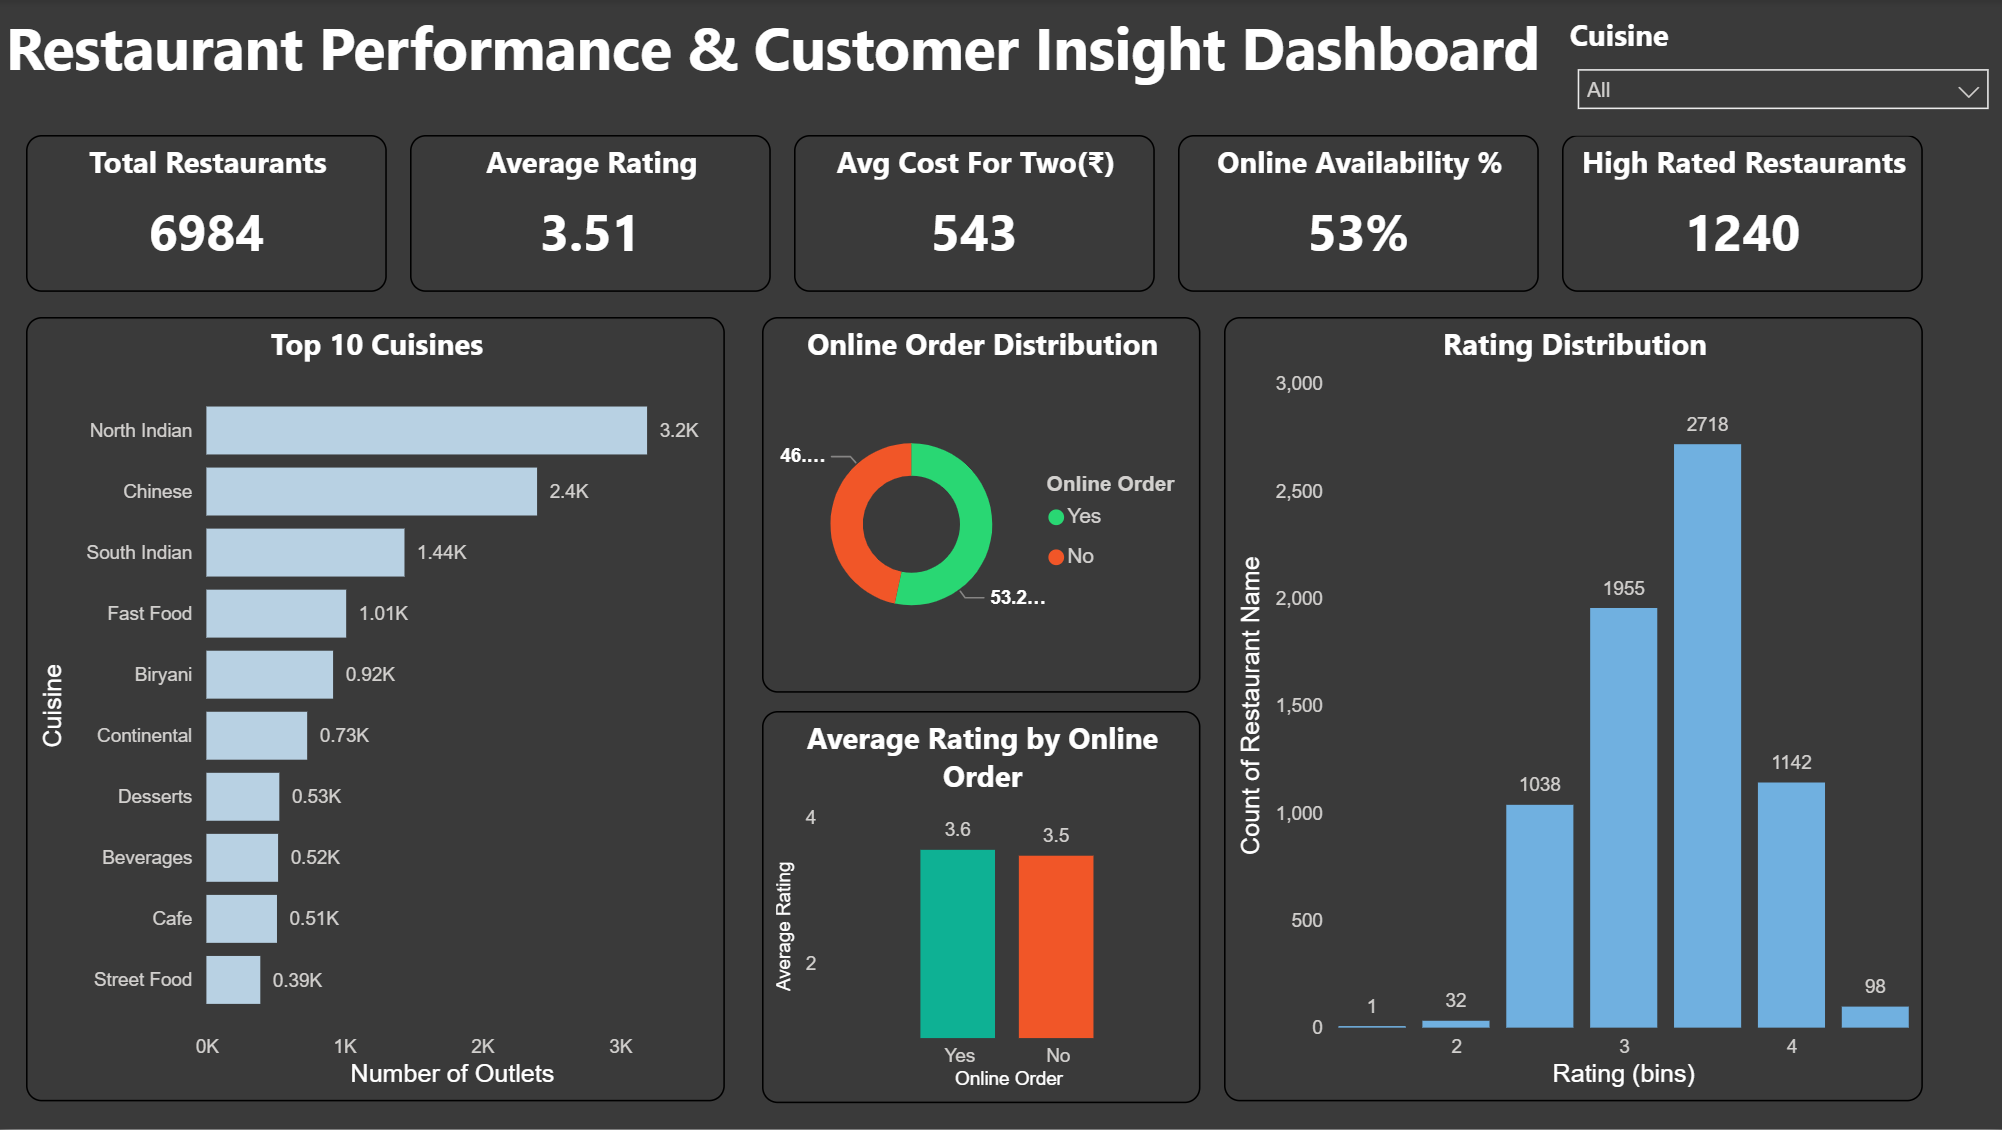

The page's visual inventory and layout, read from the dashboard file:
{"tool":"powerbi","page":{"name":"Page 1","canvas":[1280,720],"ordinal":0},"visuals":[{"type":"card","title":"Total Restaurants","fields":{"Values":["zomato.Total Restaurants"]},"box":[17.6,86.8,230,100],"z":0},{"type":"card","title":"Average Rating","fields":{"Values":["zomato.Average Rating"]},"box":[262.5,86.8,230,100],"z":1000},{"type":"card","title":"Avg Cost For Two(₹)","fields":{"Values":["zomato.Average Cost for Two"]},"box":[507.4,86.8,230,100],"z":2000},{"type":"card","title":"Online Availability %","fields":{"Values":["zomato.Online Order %"]},"box":[752.2,86.8,230,100],"z":3000},{"type":"card","title":"High Rated Restaurants","fields":{"Values":["zomato.High Rated Restaurants"]},"box":[997.1,86.8,230,100],"z":4000},{"type":"textbox","box":[0,0,995.8,86.2],"z":5000},{"type":"donutChart","title":"Online Order Distribution","fields":{"Category":["zomato.Online Order"],"Y":["Count(zomato.Restaurant Name)"]},"box":[486.4,202.9,279.4,239.7],"z":6000},{"type":"clusteredBarChart","title":"Top 10 Cuisines","fields":{"Category":["zomato.Cuisine"],"Y":["Count(zomato.Restaurant Name)"]},"box":[17.6,202.9,445.6,500],"z":7000},{"type":"slicer","title":"Cuisine","fields":{"Values":["zomato.Cuisine"]},"box":[997.6,9.6,281.9,77.1],"z":8000},{"type":"clusteredColumnChart","title":"Average Rating by Online Order","fields":{"Category":["zomato.Online Order"],"Y":["zomato.Average Rating"]},"box":[486.4,454.4,279.4,250],"z":9000},{"type":"clusteredColumnChart","title":"Rating Distribution","fields":{"Category":["zomato.Rating (bins)"],"Y":["Count(zomato.Restaurant Name)"]},"box":[780.9,202.9,445.6,500],"z":10000}]}

Visuals, with their boxes in screenshot pixels (x1, y1, x2, y2), scaled from the page's 1280x720 canvas onto the 2002x1130 screenshot:
"Total Restaurants" card: 28 136 387 293
"Average Rating" card: 411 136 770 293
"Avg Cost For Two(₹)" card: 794 136 1153 293
"Online Availability %" card: 1176 136 1536 293
"High Rated Restaurants" card: 1560 136 1919 293
textbox: 0 0 1557 135
"Online Order Distribution" donutChart: 761 318 1198 695
"Top 10 Cuisines" clusteredBarChart: 28 318 724 1103
"Cuisine" slicer: 1560 15 2001 136
"Average Rating by Online Order" clusteredColumnChart: 761 713 1198 1106
"Rating Distribution" clusteredColumnChart: 1221 318 1918 1103
